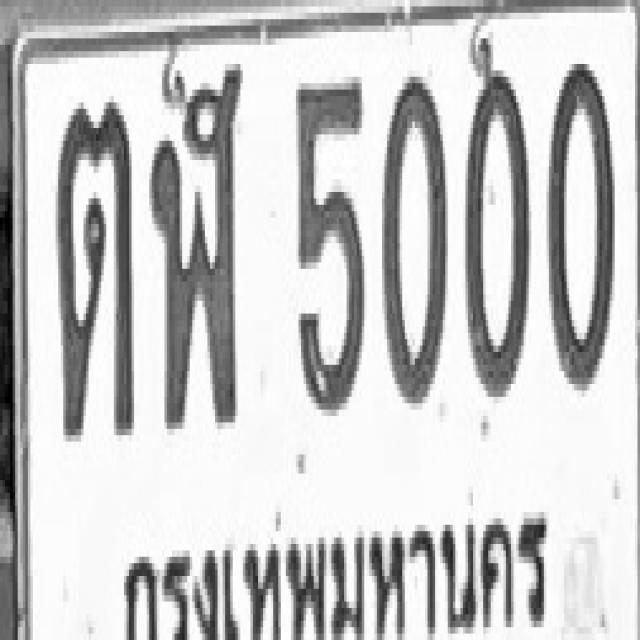0: (464, 45, 530, 397), (546, 58, 615, 390), (381, 70, 446, 403)
30TorTao: (56, 96, 134, 442)
5: (294, 74, 364, 412)
51LorChula: (150, 58, 242, 428)
Bangkok: (116, 507, 560, 640)
